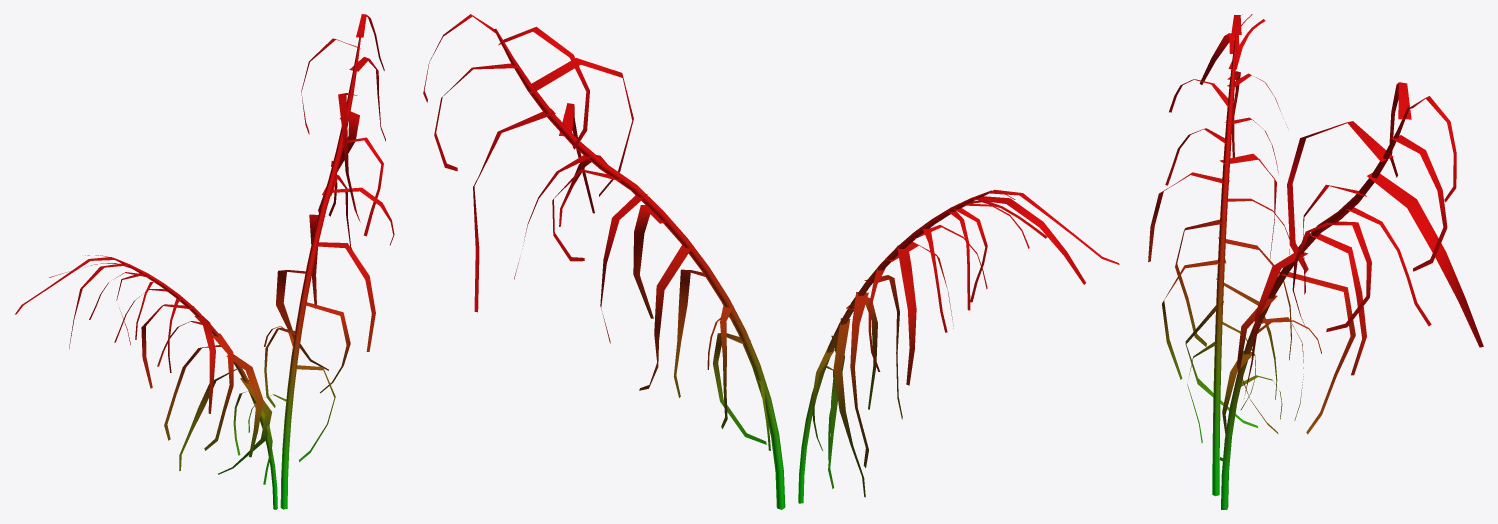
Rendered from Giant Reed_LOD1_Var4_sjllX.fbx.
The picture shows the model from 3 angles, left to right: view 1: azimuth 30°, elevation 25°; view 2: azimuth 150°, elevation 25°; view 3: azimuth 270°, elevation 25°; orthographic projection. The views are drawn at different scales.
Visible parts, largest first — view 1: _7d76_Var4_LOD1; view 2: _7d76_Var4_LOD1; view 3: _7d76_Var4_LOD1.
Part boxes in pixels (x1,y1,x2,y2): _7d76_Var4_LOD1: (15,14,394,509); _7d76_Var4_LOD1: (423,14,1119,509); _7d76_Var4_LOD1: (1148,14,1483,509).
Size of the model in its own units: 139 by 117 by 69.63.
